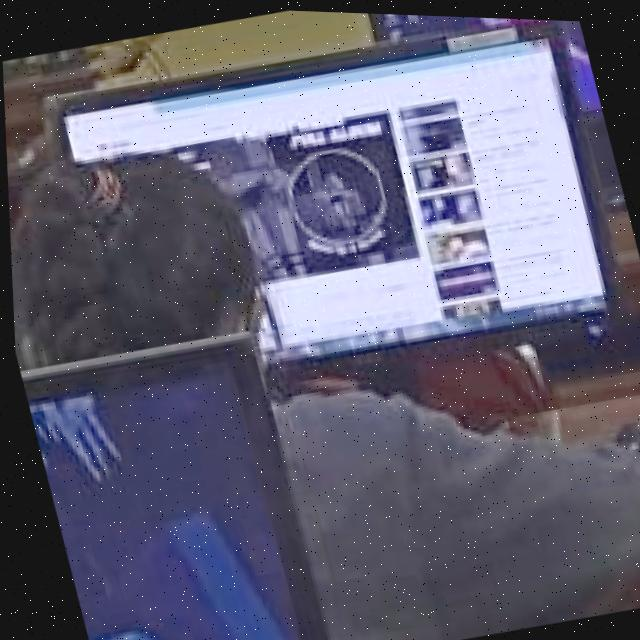onscreen: (55, 16, 610, 356), (17, 332, 320, 640)
